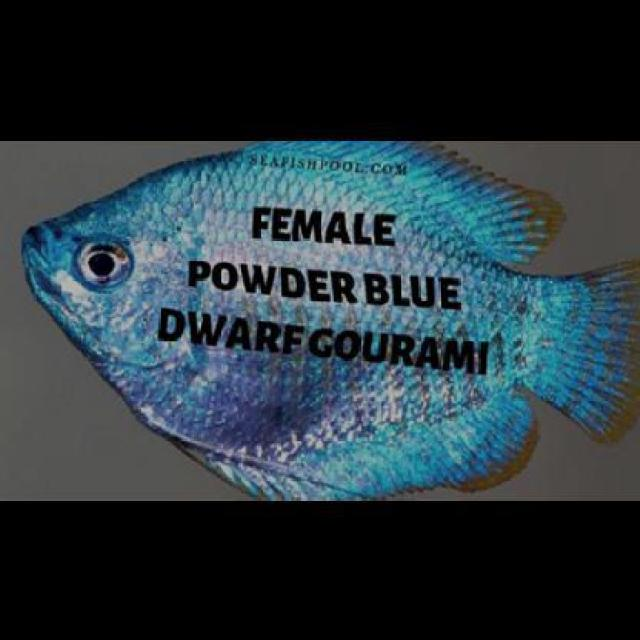Gourami: (20, 139, 638, 501)
